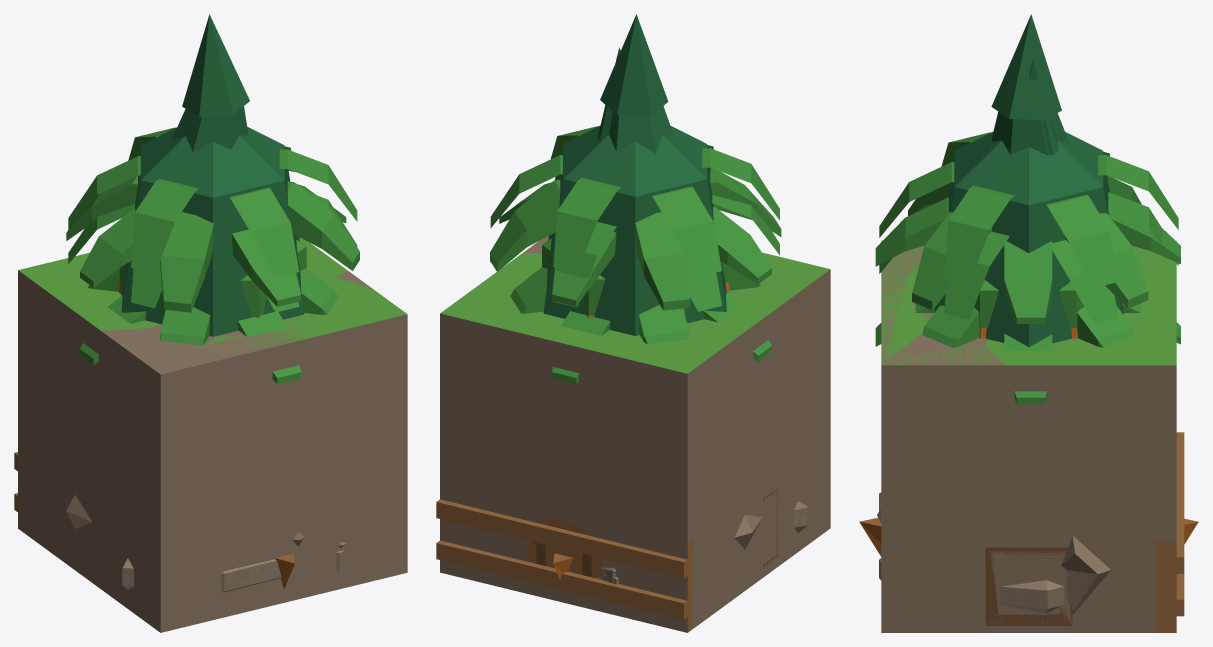
The model's file is landscape.glb.
The picture shows the model from 3 angles, left to right: view 1: azimuth 30°, elevation 25°; view 2: azimuth 150°, elevation 25°; view 3: azimuth 270°, elevation 25°; orthographic projection. The views are drawn at different scales.
Parts seen in each view (by area): view 1: cliff_large_rock, cliff_block_rock, leafs (×4), tree_default_dark, tree_palm, tree_pineTallD, tree_palmBend, tree_palmTall, rock_largeC, cliff_top_rock, tree_plateau, tree_palmShort (+1 smaller); view 2: cliff_block_rock, leafs (×4), tree_default_dark, fence_planks, tree_palm, tree_pineTallD, tree_palmBend, cliff_top_rock, gate, tree_palmTall, tree_plateau, tree_palmShort; view 3: cliff_block_rock, cliff_large_rock, tree_default_dark, leafs (×4), tree_palm, cliff_top_rock, tree_pineTallD, tree_palmBend, tree_palmTall, log_large, rock_largeD, fence_simple (+7 smaller).
Boxes of the visible parts, x1=… form: cliff_large_rock: x1=101, y1=271, x2=407, y2=632; cliff_block_rock: x1=18, y1=237, x2=406, y2=632; leafs (×4): x1=66, y1=176, x2=359, y2=384; tree_default_dark: x1=121, y1=127, x2=304, y2=336; tree_palm: x1=68, y1=127, x2=357, y2=277; tree_pineTallD: x1=172, y1=14, x2=249, y2=152; tree_palmBend: x1=68, y1=191, x2=357, y2=312; tree_palmTall: x1=91, y1=184, x2=315, y2=287; rock_largeC: x1=122, y1=558, x2=281, y2=592; cliff_top_rock: x1=136, y1=297, x2=394, y2=509; tree_plateau: x1=119, y1=239, x2=306, y2=316; tree_palmShort: x1=80, y1=295, x2=301, y2=377; cliff_block_rock: x1=440, y1=251, x2=830, y2=632; leafs (×4): x1=490, y1=168, x2=781, y2=383; tree_default_dark: x1=543, y1=125, x2=726, y2=335; fence_planks: x1=436, y1=499, x2=687, y2=619; tree_palm: x1=490, y1=126, x2=779, y2=276; tree_pineTallD: x1=600, y1=14, x2=674, y2=153; tree_palmBend: x1=490, y1=176, x2=779, y2=311; cliff_top_rock: x1=806, y1=282, x2=818, y2=545; gate: x1=526, y1=518, x2=600, y2=597; tree_palmTall: x1=499, y1=182, x2=758, y2=305; tree_plateau: x1=542, y1=238, x2=729, y2=315; tree_palmShort: x1=552, y1=293, x2=771, y2=383; cliff_block_rock: x1=881, y1=240, x2=1176, y2=632; cliff_large_rock: x1=881, y1=240, x2=1004, y2=632; tree_default_dark: x1=934, y1=131, x2=1123, y2=346; leafs (×4): x1=875, y1=176, x2=1180, y2=404; tree_palm: x1=879, y1=132, x2=1178, y2=287; cliff_top_rock: x1=881, y1=241, x2=930, y2=632; tree_pineTallD: x1=991, y1=14, x2=1069, y2=155; tree_palmBend: x1=879, y1=192, x2=1178, y2=323; tree_palmTall: x1=875, y1=197, x2=1162, y2=323; log_large: x1=985, y1=547, x2=1072, y2=625; rock_largeD: x1=877, y1=508, x2=1110, y2=614; fence_simple: x1=1156, y1=540, x2=1176, y2=632.
Size of the model in its own units: 1.07 by 2.08 by 1.15.
